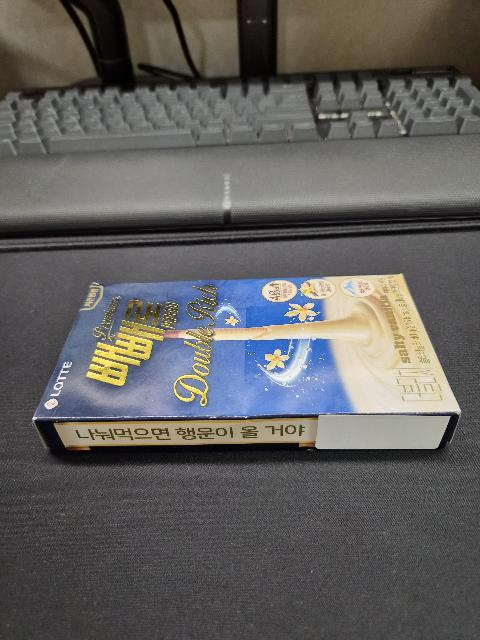pepero: (32, 274, 461, 452)
